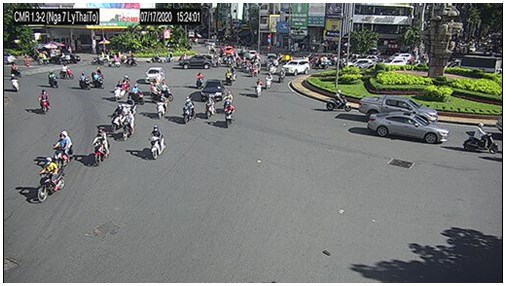xe_ba_gac: (311, 52, 332, 69)
xe_hoi: (368, 113, 448, 144), (359, 95, 438, 125), (179, 55, 214, 70), (283, 59, 310, 77), (345, 58, 375, 69), (145, 67, 165, 81), (379, 57, 407, 67), (389, 52, 413, 62), (221, 45, 235, 56)
xe_may: (37, 157, 65, 202), (463, 122, 497, 152), (90, 125, 111, 166), (53, 130, 73, 171), (325, 90, 351, 113), (150, 125, 167, 159), (111, 104, 129, 133), (122, 110, 137, 143), (182, 95, 196, 125), (128, 83, 144, 106), (37, 89, 51, 115), (148, 82, 165, 103), (225, 101, 236, 129), (159, 81, 173, 102), (205, 95, 216, 120), (46, 70, 59, 89), (157, 94, 167, 118), (222, 90, 233, 111), (92, 71, 104, 90), (78, 72, 91, 89), (59, 65, 74, 79), (115, 81, 125, 100), (11, 72, 20, 93), (195, 72, 205, 90), (11, 61, 21, 78), (109, 54, 121, 68), (126, 54, 138, 68), (163, 52, 175, 64), (225, 69, 233, 86), (151, 52, 162, 64), (255, 79, 262, 97), (278, 67, 285, 85), (265, 72, 272, 89), (252, 65, 259, 81), (92, 56, 103, 65), (231, 66, 237, 82)
xe_tai: (450, 55, 502, 73)
